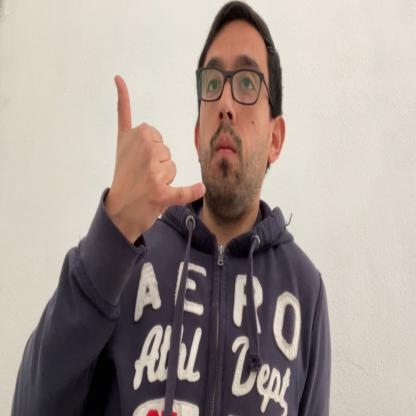Y: (112, 75, 206, 236)
